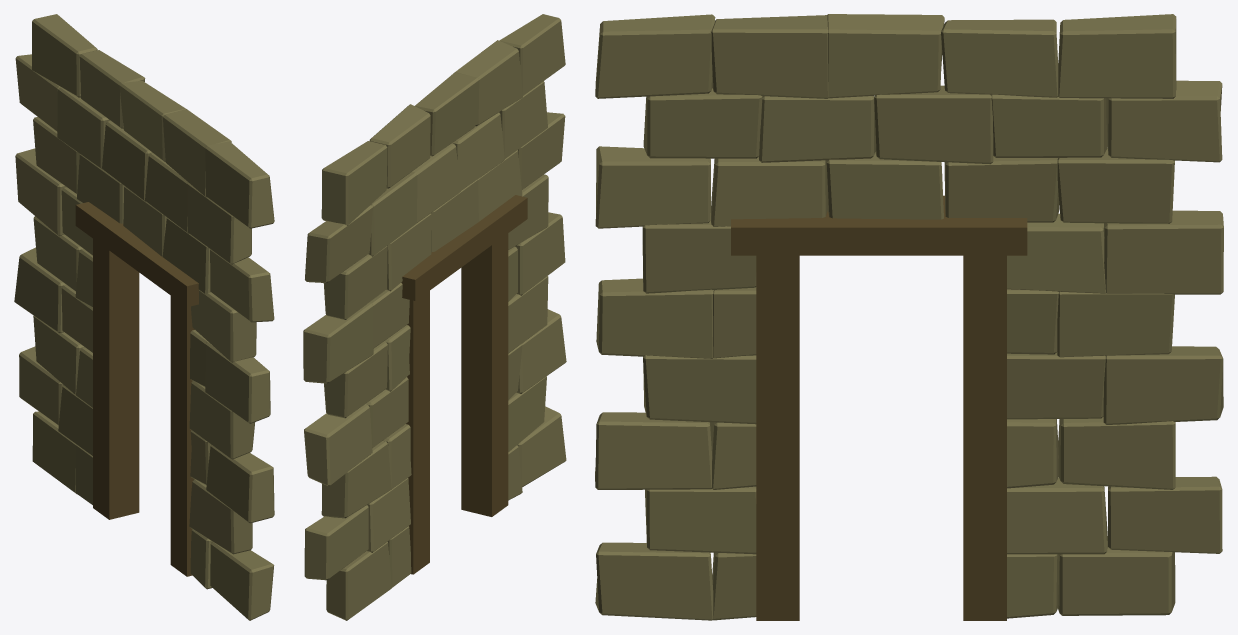
The model's file is BrickWall-Sandstone-Door.fbx.
3 views of the same model, side by side, from view 1: azimuth 30°, elevation 25°; view 2: azimuth 150°, elevation 25°; view 3: azimuth 270°, elevation 25° (orthographic). The views are drawn at different scales.
Visible parts, largest first — view 1: Sandstone Wall Door Hole, Sandstone Frame02, Sandstone Frame01, Sandstone Frame 03; view 2: Sandstone Wall Door Hole, Sandstone Frame01, Sandstone Frame02, Sandstone Frame 03; view 3: Sandstone Wall Door Hole, Sandstone Frame01, Sandstone Frame02, Sandstone Frame 03.
Boxes of the visible parts, x1=… form: Sandstone Wall Door Hole: x1=14, y1=14, x2=274, y2=620; Sandstone Frame02: x1=93, y1=239, x2=139, y2=519; Sandstone Frame01: x1=170, y1=296, x2=194, y2=576; Sandstone Frame 03: x1=75, y1=202, x2=198, y2=307; Sandstone Wall Door Hole: x1=303, y1=14, x2=566, y2=620; Sandstone Frame01: x1=461, y1=233, x2=508, y2=516; Sandstone Frame02: x1=406, y1=291, x2=429, y2=574; Sandstone Frame 03: x1=401, y1=195, x2=527, y2=300; Sandstone Wall Door Hole: x1=595, y1=14, x2=1223, y2=620; Sandstone Frame01: x1=756, y1=255, x2=799, y2=620; Sandstone Frame02: x1=963, y1=255, x2=1006, y2=620; Sandstone Frame 03: x1=731, y1=195, x2=1027, y2=255.
Bounding box in the file's own units: 105 × 907 × 874.
